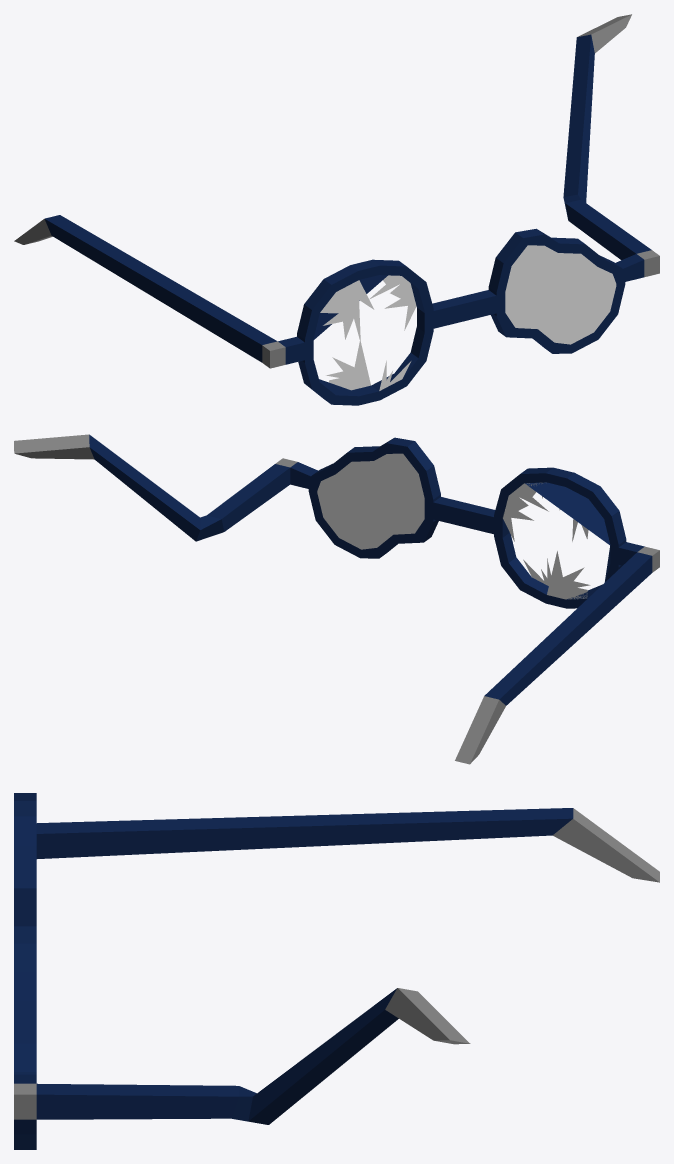
File: ObjetoGafasDestruidas.fbx
The picture shows the model from 3 angles, top to bottom: view 1: azimuth 30°, elevation 25°; view 2: azimuth 150°, elevation 25°; view 3: azimuth 270°, elevation 25°; orthographic projection. The views are drawn at different scales.
Parts seen in each view (by area): view 1: gafas; view 2: gafas; view 3: gafas.
Part boxes in pixels (bbox=[...]): gafas: bbox=[14, 14, 659, 405]; gafas: bbox=[14, 434, 659, 764]; gafas: bbox=[14, 793, 659, 1149].
Bounding box in the file's own units: 78.12 × 25.09 × 56.21.
